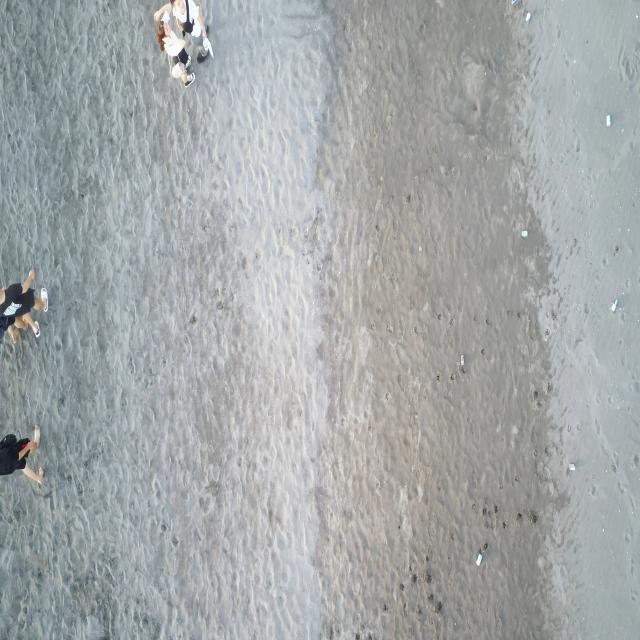Garbage: (609, 299, 616, 312), (475, 553, 482, 564), (524, 12, 531, 22), (520, 228, 527, 238), (459, 353, 464, 366), (606, 114, 611, 125), (568, 463, 575, 470), (511, 0, 519, 4), (419, 246, 422, 251)
